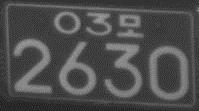0: (148, 44, 189, 102), (53, 10, 81, 35)
2: (12, 37, 52, 94)
3: (104, 41, 143, 99), (85, 11, 112, 36)
6: (58, 40, 97, 95)
모: (116, 13, 144, 38)
